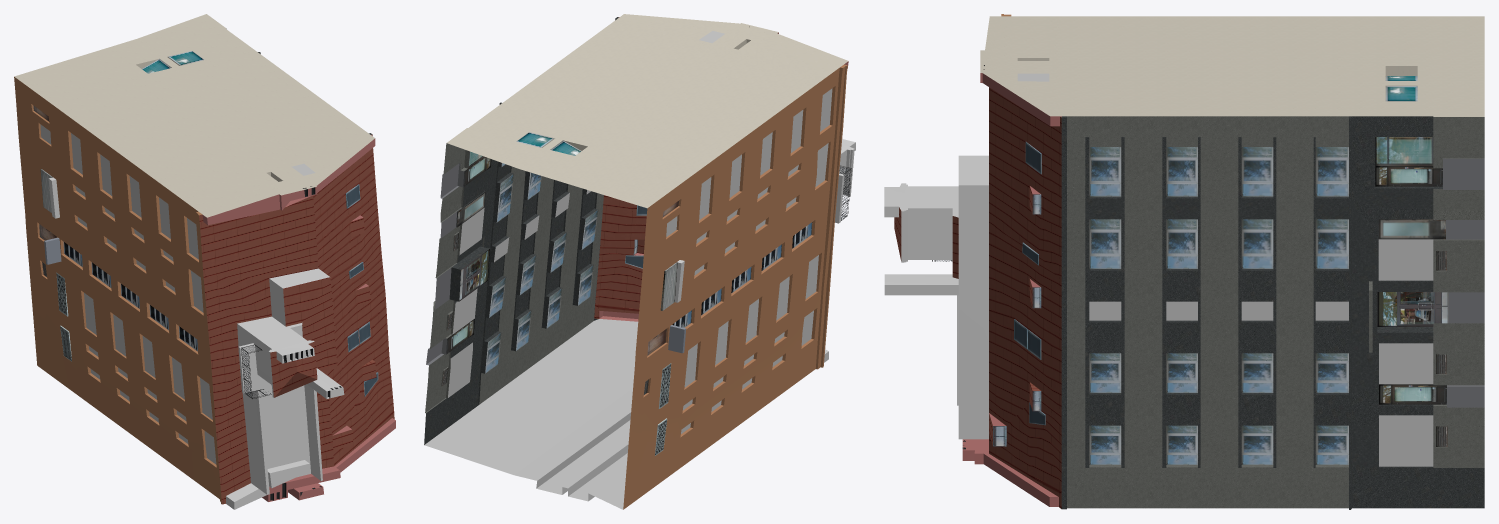
The model's file is Aia_5b-origo.obj.
The picture shows the model from 3 angles, left to right: view 1: azimuth 30°, elevation 25°; view 2: azimuth 150°, elevation 25°; view 3: azimuth 270°, elevation 25°; orthographic projection. The views are drawn at different scales.
Visible parts, largest first — view 1: Aia5_B; view 2: Aia5_B; view 3: Aia5_B.
Part boxes in pixels (x1,y1,x2,y2): Aia5_B: (14,14,395,509); Aia5_B: (424,14,855,509); Aia5_B: (884,14,1484,509).
Size of the model in its own units: 15.06 by 20 by 27.36.
